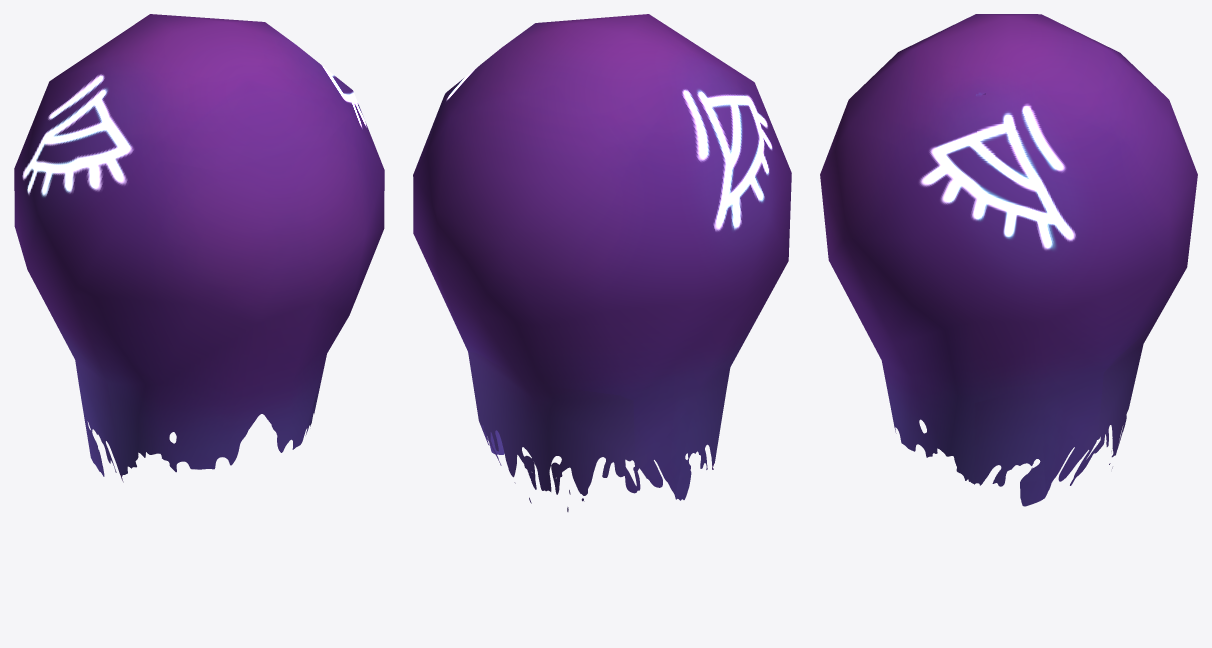
The model's file is VexQ_Head.fbx.
3 views of the same model, side by side, from view 1: azimuth 30°, elevation 25°; view 2: azimuth 150°, elevation 25°; view 3: azimuth 270°, elevation 25° (orthographic). The views are drawn at different scales.
Visible parts, largest first — view 1: Mball.003; view 2: Mball.003; view 3: Mball.003.
Part boxes in pixels (x1,y1,x2,y2): Mball.003: (14, 14, 384, 482); Mball.003: (413, 14, 791, 511); Mball.003: (820, 14, 1197, 506).
Size of the model in its own units: 73.26 by 128 by 74.02.
